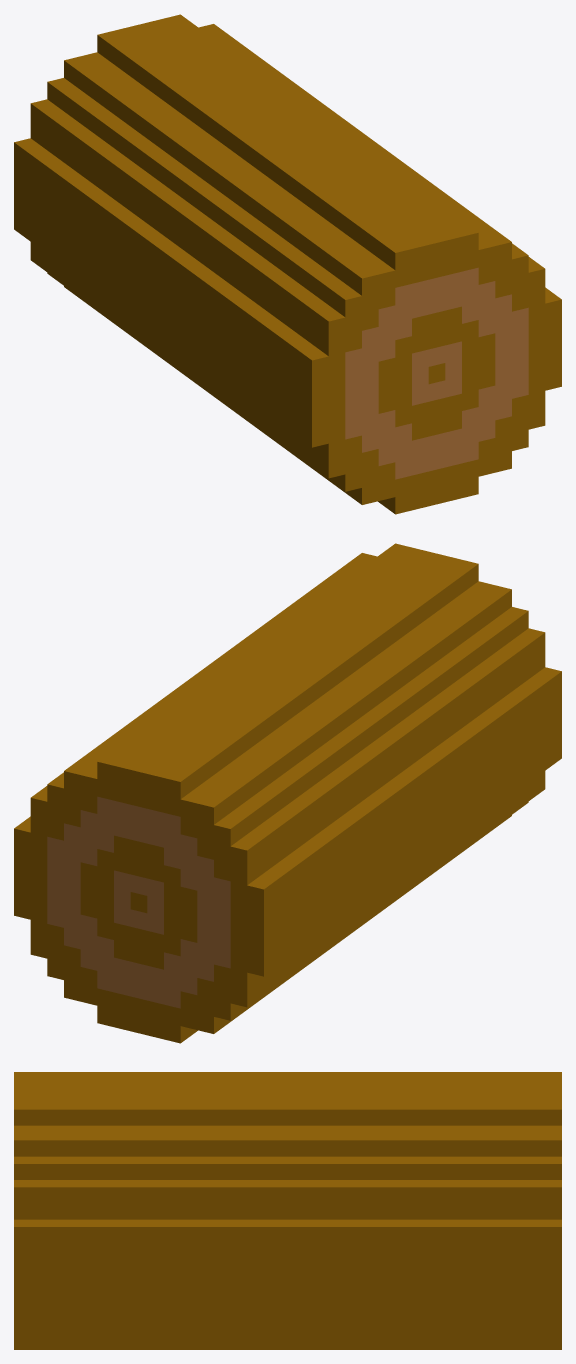
The model's file is log.obj.
The picture shows the model from 3 angles, top to bottom: view 1: azimuth 30°, elevation 25°; view 2: azimuth 150°, elevation 25°; view 3: azimuth 270°, elevation 25°; orthographic projection. The views are drawn at different scales.
Bounding box in the file's own units: 15 × 15 × 31.
Materials: 1 (1 with a texture image).
